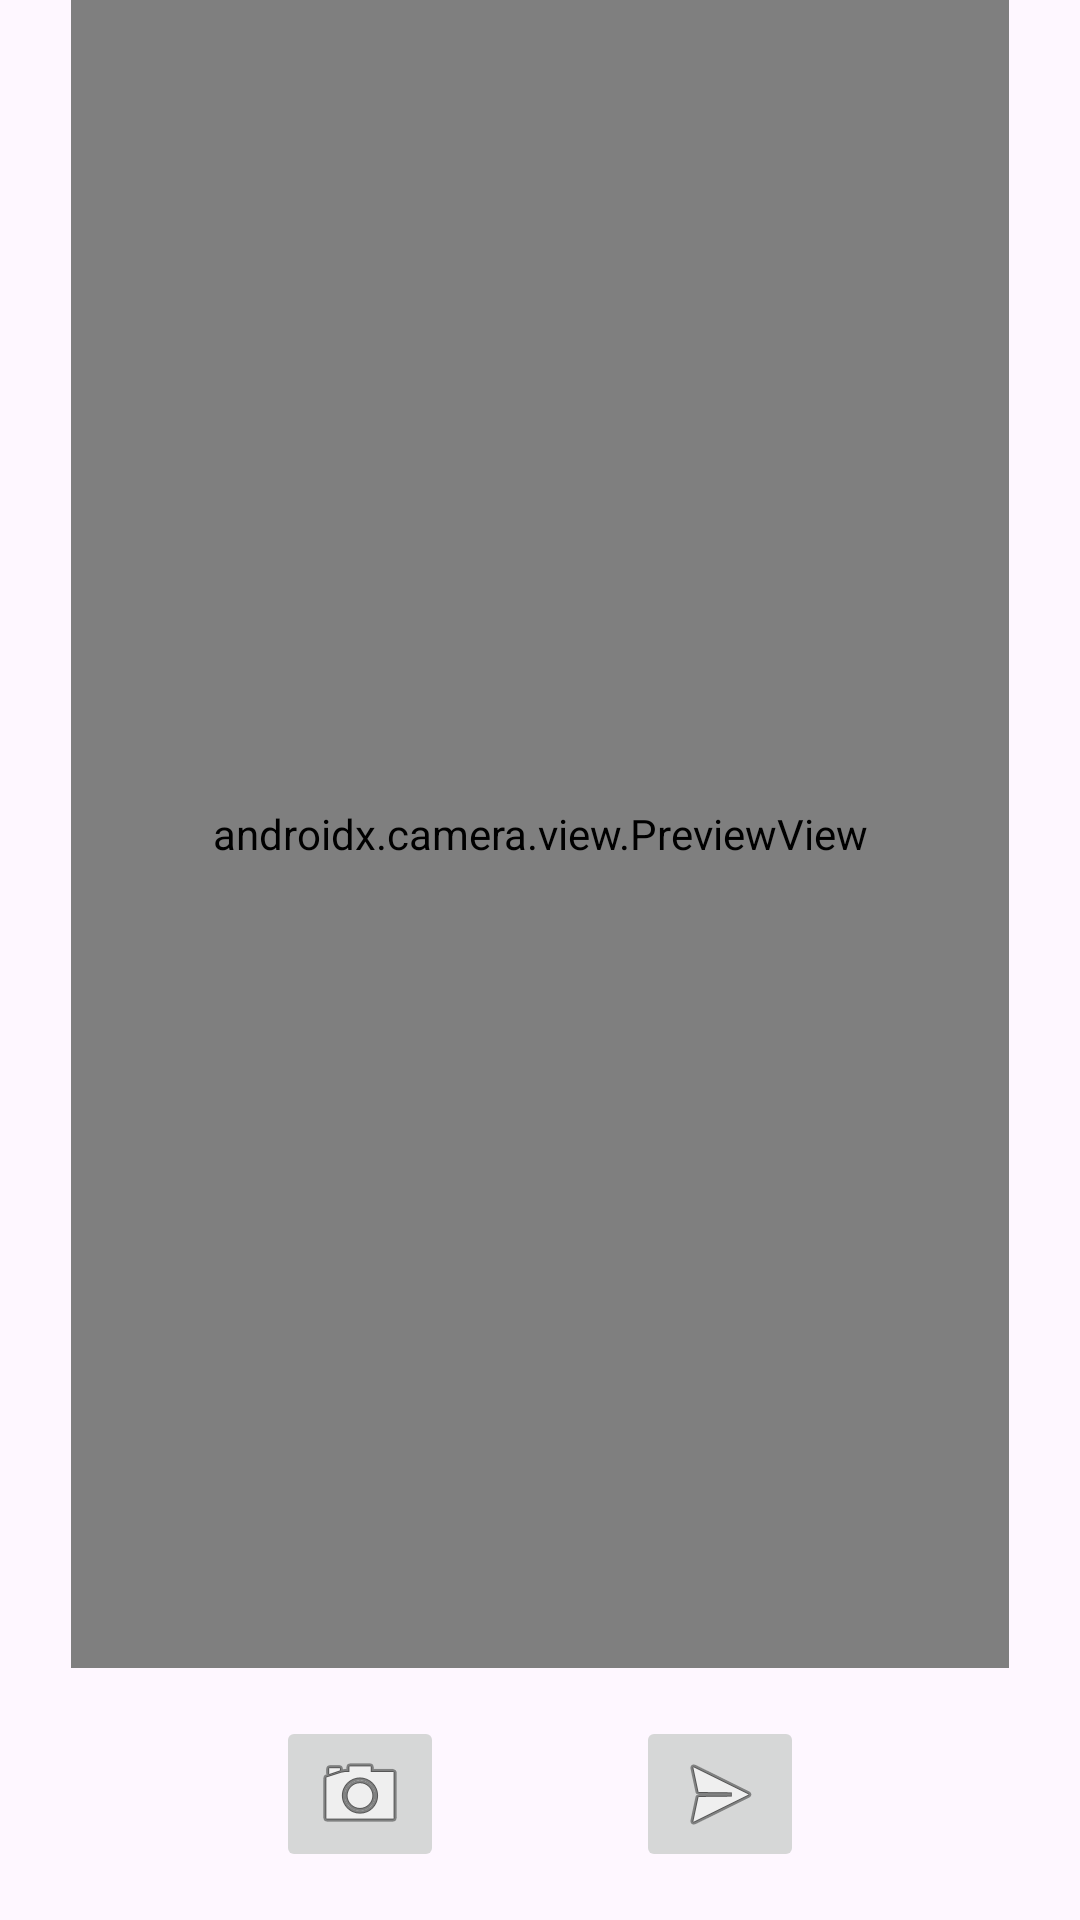

Icon bounding boxes for this 1080w x 1920h phone screenshot, format Rect(x1, y1, x2, y2):
Capture image: Rect(288, 1734, 432, 1854)
Post: Rect(648, 1734, 792, 1854)
